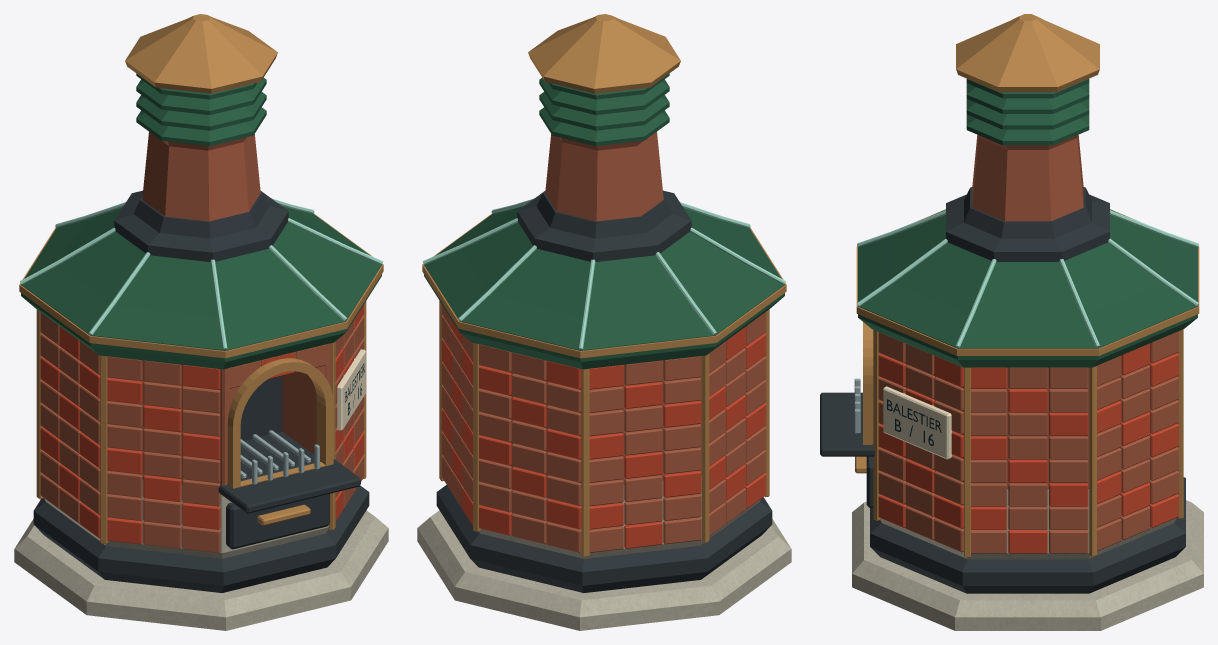
3 views of the same model, side by side, from view 1: azimuth 30°, elevation 25°; view 2: azimuth 150°, elevation 25°; view 3: azimuth 270°, elevation 25° (orthographic).
Visible parts, largest first — view 1: Quarry tile veneer, Glazed hood, Chamfered foundation, Cast foot, Ceramic flue, Flue bonnet, Flue collar, Rain baffles, Cast loading rim, Corner pilasters, Loading shelf, Hood binding (+12 smaller); view 2: Quarry tile veneer, Glazed hood, Chamfered foundation, Cast foot, Ceramic flue, Flue bonnet, Flue collar, Rain baffles, Corner pilasters, Hood binding, Hood seams, Lower refractory lining (+1 smaller); view 3: Quarry tile veneer, Glazed hood, Chamfered foundation, Cast foot, Flue bonnet, Ceramic flue, Flue collar, Rain baffles, Corner pilasters, Estate number plate, Hood binding, Hood seams (+4 smaller).
Part boxes in pixels (left/top/right/bottom): Quarry tile veneer: left=40, top=304, right=364, bottom=552; Glazed hood: left=21, top=205, right=381, bottom=369; Chamfered foundation: left=14, top=510, right=388, bottom=630; Cast foot: left=33, top=485, right=369, bottom=592; Ceramic flue: left=142, top=132, right=260, bottom=221; Flue bonnet: left=125, top=14, right=277, bottom=93; Flue collar: left=114, top=190, right=288, bottom=261; Rain baffles: left=136, top=73, right=266, bottom=146; Cast loading rim: left=227, top=358, right=333, bottom=488; Corner pilasters: left=36, top=301, right=366, bottom=544; Loading shelf: left=218, top=459, right=360, bottom=513; Hood binding: left=19, top=213, right=383, bottom=358; Quarry tile veneer: left=442, top=305, right=766, bottom=552; Glazed hood: left=424, top=205, right=784, bottom=369; Chamfered foundation: left=417, top=510, right=791, bottom=630; Cast foot: left=436, top=485, right=772, bottom=592; Ceramic flue: left=545, top=132, right=663, bottom=221; Flue bonnet: left=528, top=14, right=680, bottom=93; Flue collar: left=517, top=190, right=691, bottom=261; Rain baffles: left=539, top=73, right=669, bottom=146; Corner pilasters: left=439, top=300, right=769, bottom=557; Hood binding: left=422, top=213, right=786, bottom=358; Hood seams: left=422, top=198, right=785, bottom=350; Lower refractory lining: left=479, top=476, right=761, bottom=558; Quarry tile veneer: left=878, top=331, right=1178, bottom=553; Glazed hood: left=858, top=209, right=1197, bottom=367; Chamfered foundation: left=852, top=500, right=1203, bottom=630; Cast foot: left=870, top=477, right=1185, bottom=593; Flue bonnet: left=956, top=14, right=1099, bottom=92; Ceramic flue: left=972, top=135, right=1083, bottom=221; Flue collar: left=946, top=187, right=1109, bottom=261; Rain baffles: left=966, top=79, right=1089, bottom=145; Corner pilasters: left=873, top=329, right=1183, bottom=557; Estate number plate: left=883, top=386, right=951, bottom=459; Hood binding: left=856, top=209, right=1199, bottom=355; Hood seams: left=857, top=210, right=1199, bottom=347.
Bounding box in the file's own units: 1.63 × 2.75 × 1.77.
10 materials, 1 textured.
